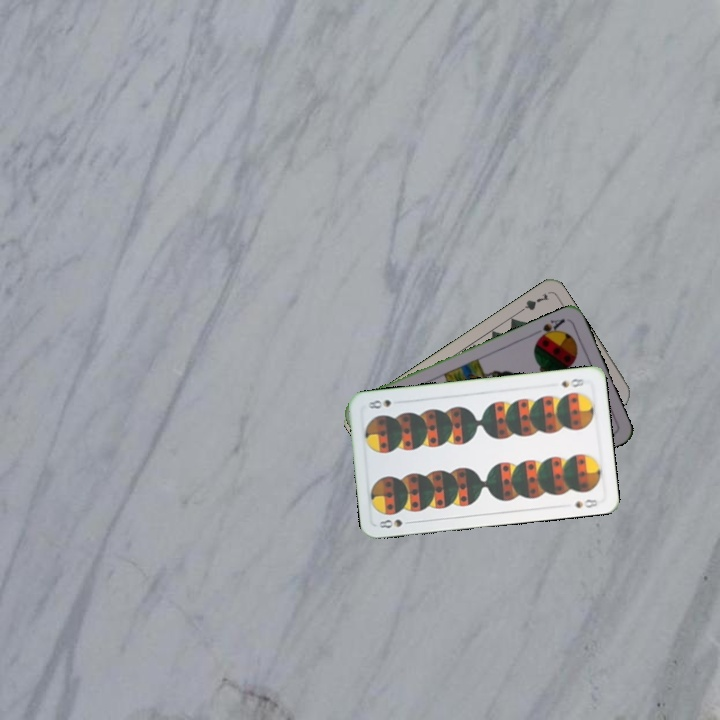G7: (514, 289, 552, 316)
S8: (375, 515, 416, 531), (557, 374, 586, 390)
SA: (533, 314, 568, 343)
